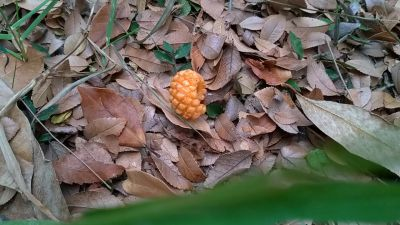eggs: (167, 68, 210, 124)
